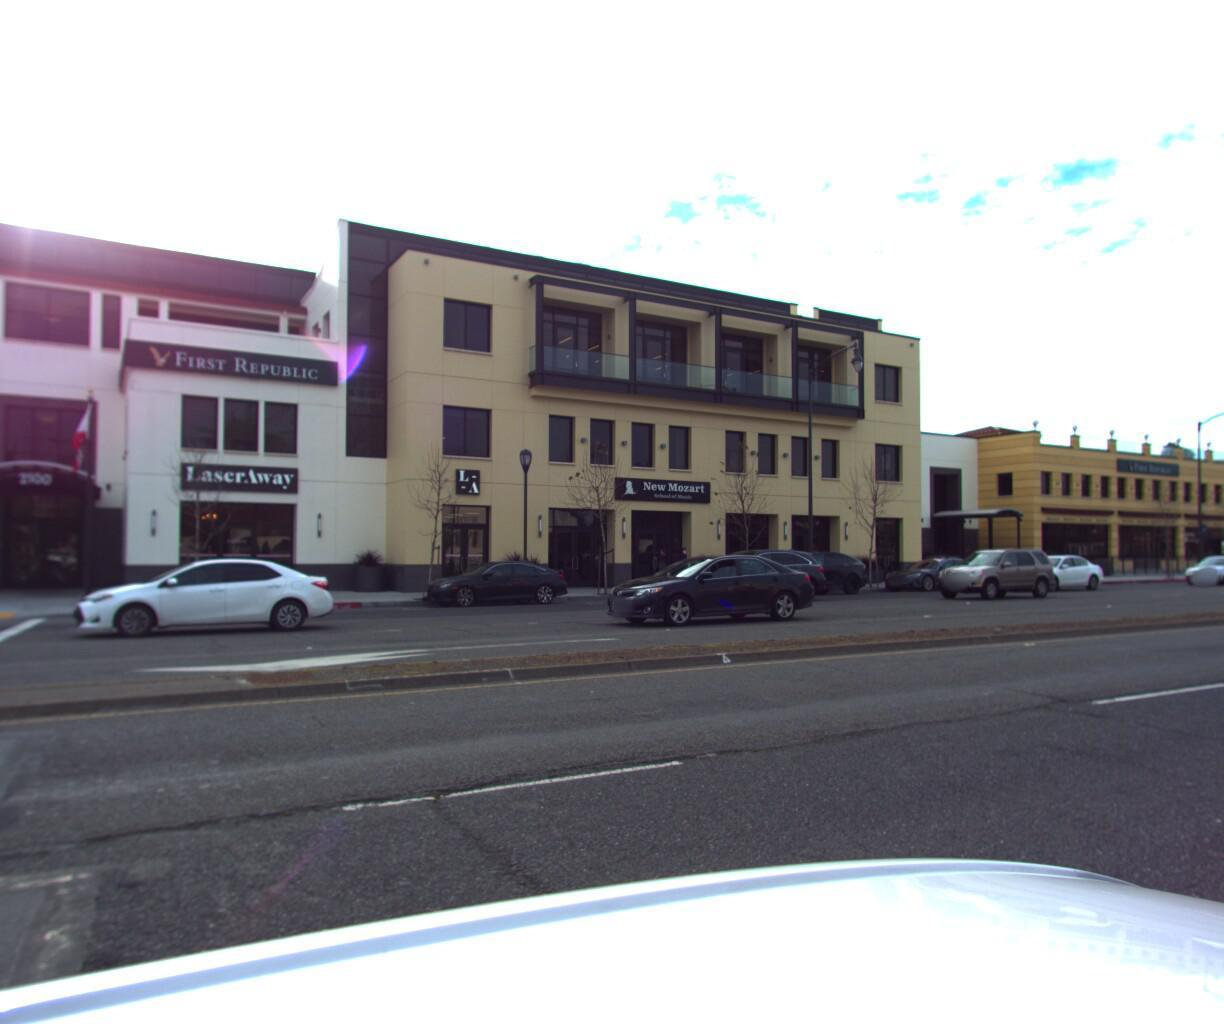car: (67, 553, 342, 638), (592, 550, 822, 626), (414, 554, 576, 608), (677, 549, 827, 599), (927, 545, 1058, 596), (739, 548, 874, 597), (877, 548, 991, 589), (1007, 549, 1114, 586), (1175, 551, 1224, 581)
